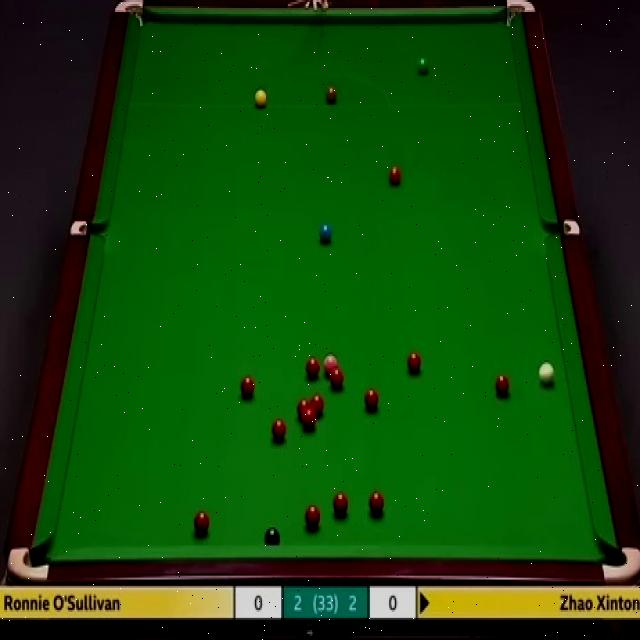black-ball: (264, 528, 280, 544)
blue-ball: (318, 222, 331, 244)
brown-ball: (324, 85, 338, 105)
green-ball: (418, 54, 428, 74)
pink-ball: (323, 353, 338, 377)
red-ball: (332, 492, 349, 518), (238, 374, 256, 398), (270, 416, 286, 443), (193, 509, 210, 534), (304, 503, 320, 529), (494, 374, 510, 400), (302, 407, 317, 434), (308, 393, 325, 416), (369, 492, 385, 514), (387, 165, 402, 188), (306, 357, 320, 381), (365, 387, 379, 410), (407, 352, 422, 373), (298, 398, 311, 422), (330, 370, 344, 389)
white-ball: (537, 360, 555, 385)
yellow-ball: (252, 89, 268, 109)
